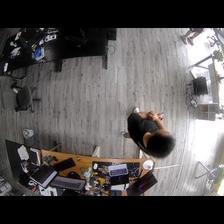normal: (121, 107, 177, 159)
